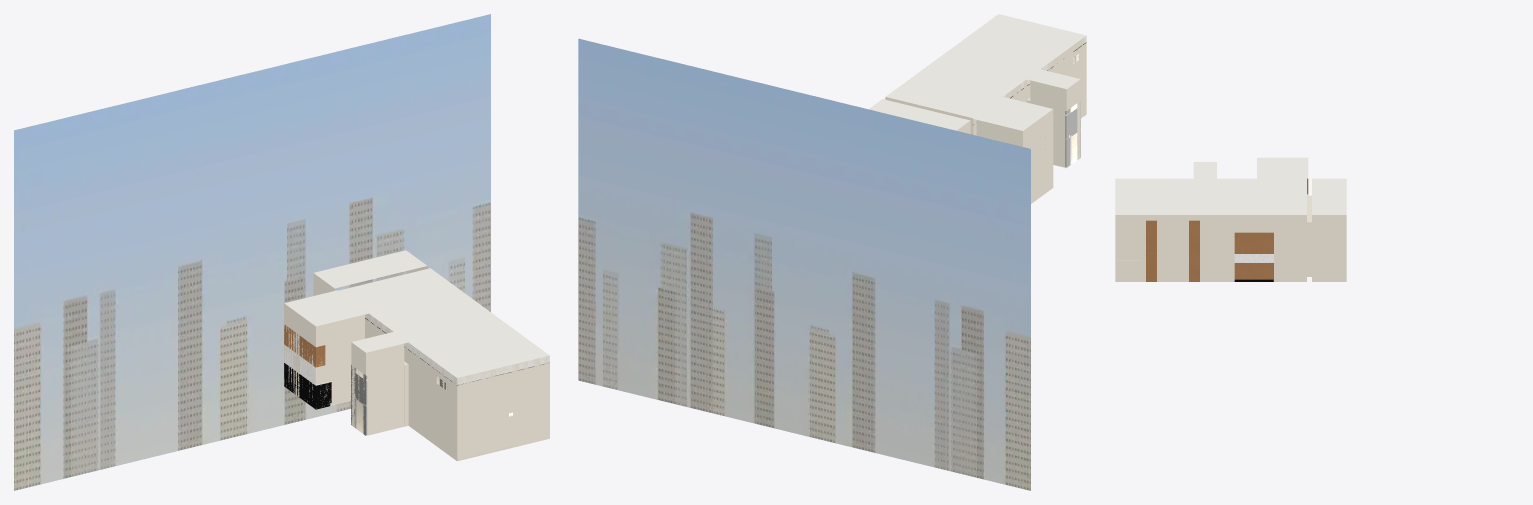
File: room-preview.glb
3 views of the same model, side by side, from view 1: azimuth 30°, elevation 25°; view 2: azimuth 150°, elevation 25°; view 3: azimuth 270°, elevation 25° (orthographic). The views are drawn at different scales.
Visible parts, largest first — view 1: Outside View, Shell_Ceiling, Shell_Front Wall, Shell_Left Wall, Shell_Corridor Side A, Shell_Kitchen Side A, LM_KitchenGlimpse, Shell_Balcony Ceiling Outside, Shell_Kitchen Ceiling, Shell_Kitchen Back, LM_FalseCeiling, LM_BedDoor (+2 smaller); view 2: Outside View, Shell_Ceiling, Shell_Kitchen Back, Shell_Left Wall, Shell_Corridor Side B, Shell_Kitchen Ceiling, Shell_Balcony Ceiling Outside, LM_BedDoor, Shell_Kitchen Side B, Shell_Corridor Ceiling, Shell_Corridor End; view 3: Shell_Right Wall, Shell_Ceiling, Shell_Balcony Side R Outside, LM_Crockery, LM_TVFlutes, Shell_Balcony Ceiling Outside, Shell_Kitchen Ceiling.
Part boxes in pixels (x1,y1,x2,y2): Outside View: (14,14,490,490); Shell_Ceiling: (338,268,549,377); Shell_Front Wall: (457,356,549,460); Shell_Left Wall: (365,313,457,460); Shell_Corridor Side A: (366,343,404,435); Shell_Kitchen Side A: (316,314,364,408); LM_KitchenGlimpse: (284,325,332,409); Shell_Balcony Ceiling Outside: (314,250,426,288); Shell_Kitchen Ceiling: (284,290,368,326); Shell_Kitchen Back: (284,303,315,401); LM_FalseCeiling: (365,314,549,384); LM_BedDoor: (351,365,367,436); Outside View: (578,38,1030,490); Shell_Ceiling: (886,14,1086,118); Shell_Kitchen Back: (1023,109,1053,203); Shell_Left Wall: (973,36,1086,135); Shell_Corridor Side B: (1030,80,1066,167); Shell_Kitchen Ceiling: (973,97,1052,130); Shell_Balcony Ceiling Outside: (869,99,970,130); LM_BedDoor: (1065,100,1080,168); Shell_Kitchen Side B: (976,120,1022,146); Shell_Corridor Ceiling: (1027,69,1080,89); Shell_Corridor End: (1066,79,1080,159); Shell_Right Wall: (1115,215,1306,281); Shell_Ceiling: (1115,178,1306,214); Shell_Balcony Side R Outside: (1312,215,1346,281); LM_Crockery: (1234,232,1274,281); LM_TVFlutes: (1146,220,1199,281); Shell_Balcony Ceiling Outside: (1312,178,1346,214); Shell_Kitchen Ceiling: (1257,157,1308,178).
Size of the model in its own units: 18 by 13 by 16.4.
Materials: 95 (61 with a texture image).
